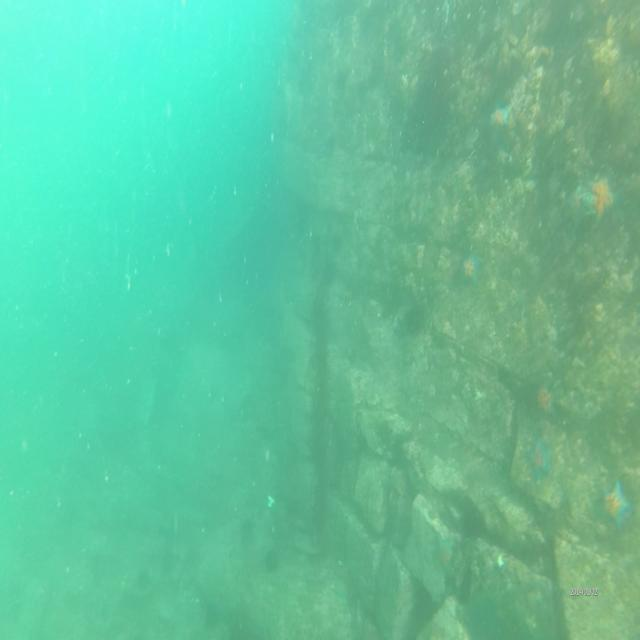echinus: (134, 564, 154, 603), (202, 596, 220, 626), (261, 544, 279, 574), (240, 516, 258, 544)
starfish: (585, 161, 623, 230), (600, 477, 631, 532), (560, 182, 593, 232), (524, 435, 553, 481), (532, 375, 560, 419), (459, 249, 484, 291), (433, 534, 455, 576), (490, 100, 510, 132)
